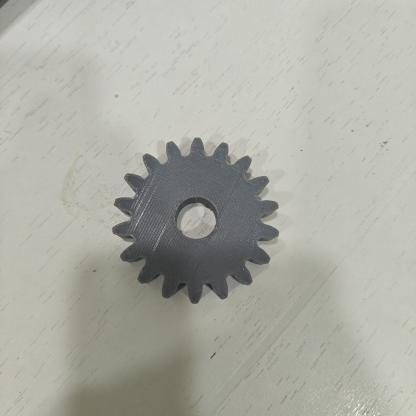gear: (91, 131, 305, 314)
